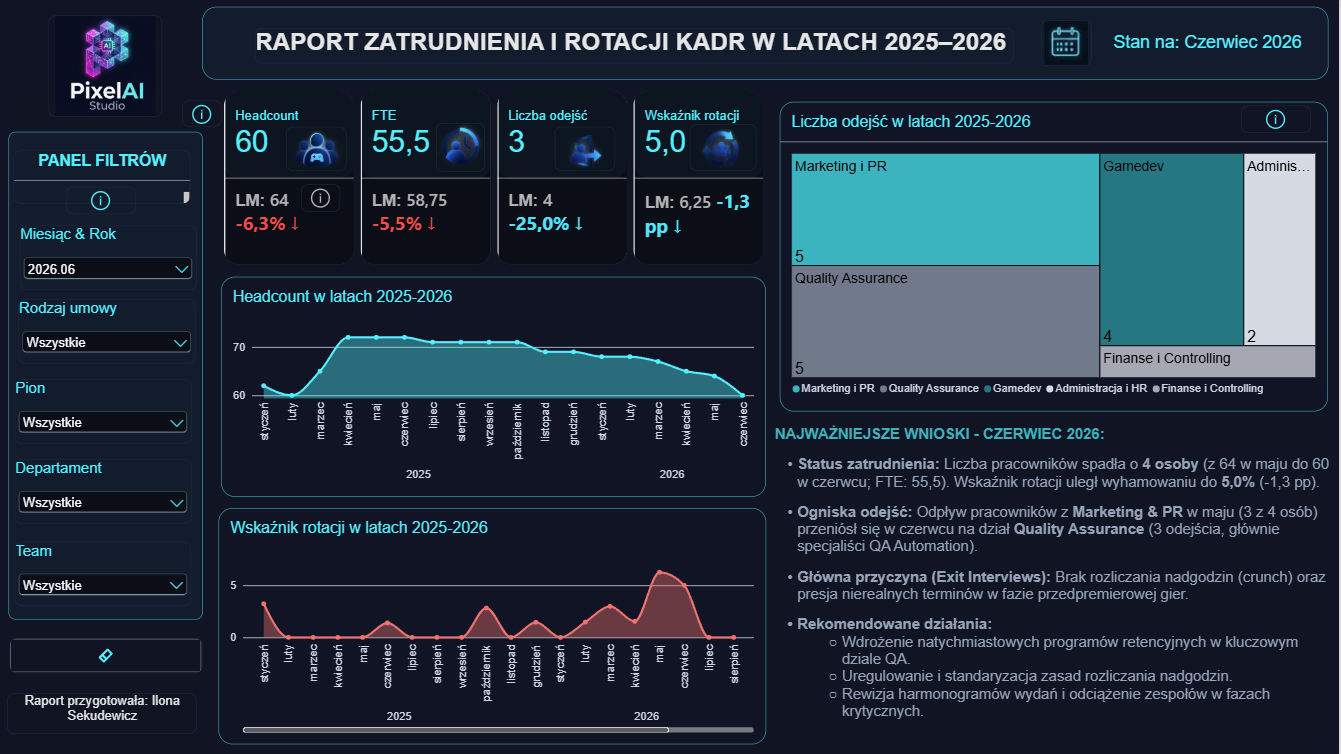

The dashboard page shown, as its layout file describes it:
{"tool":"powerbi","page":{"name":"Strona 1","canvas":[1920,1080],"ordinal":0},"visuals":[{"type":"shape","title":"PANEL FILTRÓW","box":[294.8,12.6,1609,104.3],"z":0},{"type":"shape","title":"PANEL FILTRÓW","box":[1508,26,380,76],"z":1000},{"type":"shape","title":"PANEL FILTRÓW","box":[17.6,191.8,277.9,696.8],"z":2000},{"type":"cardVisual","title":"KPI","fields":{"Data":["Miary.Headcount","Miary.FTE","Miary.Liczba odejść","Miary.Wskaźnik rotacji"]},"box":[325.4,133,774.8,249.9],"z":3000},{"type":"lineChart","title":"Headcount w latach 2025-2026","fields":{"Category":["dim_Kalendarz.Rok","dim_Kalendarz.Miesiąc"],"Y":["Miary.Headcount"]},"box":[321.8,399.1,778.4,314.6],"z":4000},{"type":"lineChart","title":"Wskaźnik rotacji w latach 2025-2026","fields":{"Category":["dim_Kalendarz.Rok","dim_Kalendarz.Miesiąc"],"Y":["Miary.Wskaźnik rotacji"]},"box":[318.2,728.1,782,338],"z":5000},{"type":"textbox","title":"RAPORT ZATRUDNIENIA I ROTACJI KADR W LATACH 2025–2026","box":[370.3,43.1,1084,50.3],"z":6000},{"type":"slicer","title":"Miesiąc & Rok","fields":{"Values":["dim_Kalendarz.Rok.Miesiąc"]},"box":[33.3,324.9,252.5,92],"z":7000},{"type":"slicer","title":"Departament","fields":{"Values":["fact_Zatrudnienie.Departament"]},"box":[27.4,659.6,252.5,92],"z":8000},{"type":"slicer","title":"Pion","fields":{"Values":["fact_Zatrudnienie.Pion"]},"box":[27.4,544.1,252.5,92],"z":9000},{"type":"slicer","title":"Team","fields":{"Values":["fact_Zatrudnienie.Team"]},"box":[26,776,252,92],"z":10000},{"type":"textbox","title":"PANEL FILTRÓW","box":[25.4,217.2,252.5,76.3],"z":11000},{"type":"actionButton","box":[99.8,270.1,99.8,39.1],"z":12000},{"type":"image","box":[74.4,25.4,162.4,144.8],"z":13000},{"type":"shape","title":"PANEL FILTRÓW","box":[1118.2,668.8,771.2,381.1],"z":14000},{"type":"textbox","box":[1583.4,48.9,293.6,43.1],"z":15000},{"type":"textbox","title":"Dynamika zatrudnienia: Headcount wzrósł z 62 (styczeń) do 71 osób (październik), osiągając stabilizację na poziomie 71–72 osób od II kwartału 2025 r..  Rotacja i struktura: Wskaźnik rotacji pozostaje ","box":[1111.7,610.6,792.7,456],"z":16000},{"type":"image","box":[1493.3,31.3,72.4,64.6],"z":17000},{"type":"textbox","title":"Raport przygotowała: Ilona Sekudewicz ","box":[15.7,992.3,270.1,58.7],"z":18000},{"type":"treemap","title":"Liczba odejść w latach 2025-2026","fields":{"Group":["fact_Zatrudnienie.Dział","fact_Zatrudnienie.Pion","fact_Zatrudnienie.Team","dim_Pracownicy.Nazwisko i Imię"],"Values":["Miary.Liczba odejść AI"]},"box":[1120,147.4,782.9,442.3],"z":19000},{"type":"actionButton","box":[435.1,266.1,55.7,39.6],"z":20000},{"type":"actionButton","box":[19.8,915.1,275.1,50.3],"z":21000},{"type":"slicer","title":"Rodzaj umowy","fields":{"Values":["dim_Pracownicy.Rodzaj umowy"]},"box":[31.3,430.6,252.5,92],"z":22000},{"type":"actionButton","box":[266.1,145.6,55.7,37.8],"z":23000},{"type":"actionButton","box":[1778.9,153.7,99.8,39.1],"z":24000},{"type":"image","box":[413.5,183.7,86.5,63.5],"z":25000},{"type":"image","box":[627.9,177.9,69.2,69.2],"z":26000},{"type":"image","box":[799,183.7,86.5,63.5],"z":27000},{"type":"image","box":[991.3,180.8,95.2,66.3],"z":28000}]}

Visuals, with their boxes in screenshot pixels (x1, y1, x2, y2), scaled from the page's 1920x1080 canvas onto the 1341x754 screenshot:
"PANEL FILTRÓW" shape: rect(206, 9, 1330, 82)
"PANEL FILTRÓW" shape: rect(1053, 18, 1319, 71)
"PANEL FILTRÓW" shape: rect(12, 134, 206, 620)
"KPI" cardVisual: rect(227, 93, 768, 267)
"Headcount w latach 2025-2026" lineChart: rect(225, 279, 768, 498)
"Wskaźnik rotacji w latach 2025-2026" lineChart: rect(222, 508, 768, 744)
"RAPORT ZATRUDNIENIA I ROTACJI KADR W LATACH 2025–2026" textbox: rect(259, 30, 1016, 65)
"Miesiąc & Rok" slicer: rect(23, 227, 200, 291)
"Departament" slicer: rect(19, 460, 195, 525)
"Pion" slicer: rect(19, 380, 195, 444)
"Team" slicer: rect(18, 542, 194, 606)
"PANEL FILTRÓW" textbox: rect(18, 152, 194, 205)
actionButton: rect(70, 189, 139, 216)
image: rect(52, 18, 165, 119)
"PANEL FILTRÓW" shape: rect(781, 467, 1320, 733)
textbox: rect(1106, 34, 1311, 64)
"Dynamika zatrudnienia: Headcount wzrósł z 62 (styczeń) do 71 osób (październik), osiągając stabilizację na poziomie 71–72 osób od II kwartału 2025 r..  Rotacja i struktura: Wskaźnik rotacji pozostaje " textbox: rect(776, 426, 1330, 745)
image: rect(1043, 22, 1094, 67)
"Raport przygotowała: Ilona Sekudewicz " textbox: rect(11, 693, 200, 734)
"Liczba odejść w latach 2025-2026" treemap: rect(782, 103, 1329, 412)
actionButton: rect(304, 186, 343, 213)
actionButton: rect(14, 639, 206, 674)
"Rodzaj umowy" slicer: rect(22, 301, 198, 365)
actionButton: rect(186, 102, 225, 128)
actionButton: rect(1242, 107, 1312, 135)
image: rect(289, 128, 349, 173)
image: rect(439, 124, 487, 173)
image: rect(558, 128, 618, 173)
image: rect(692, 126, 759, 173)
